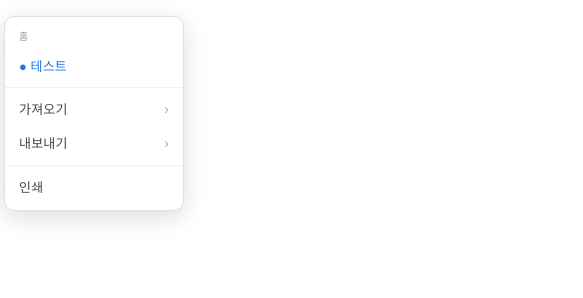
Test case: 햄버거 메뉴 가져오기 서브창 › 가져오기와 내보내기는 동시에 안 열린다
What coordinates should you click on to do the following:
click the text "가져오기"
I would click on:
 (43, 109)
Its box is [19, 99, 169, 118].
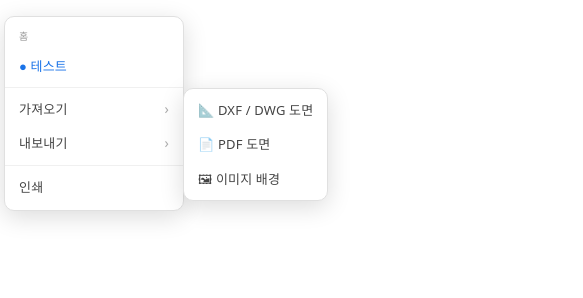
Expected: the text "📄 PDF 도면" is shown, [198, 135, 270, 153]
What coordinates should you click on to do the following:
click the text "내보내기"
I would click on:
 (43, 143)
Its box is [19, 134, 169, 152].
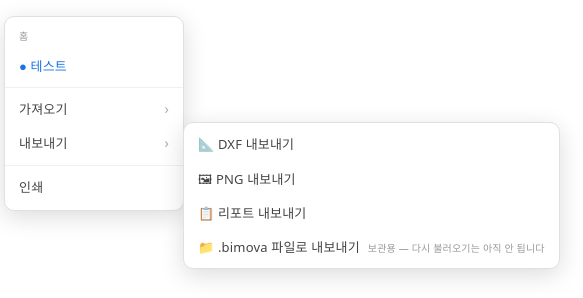
Expected: the text "📐 DXF 내보내기" is shown, [198, 135, 294, 153]
Expected: the text "📄 PDF 도면" is gone
